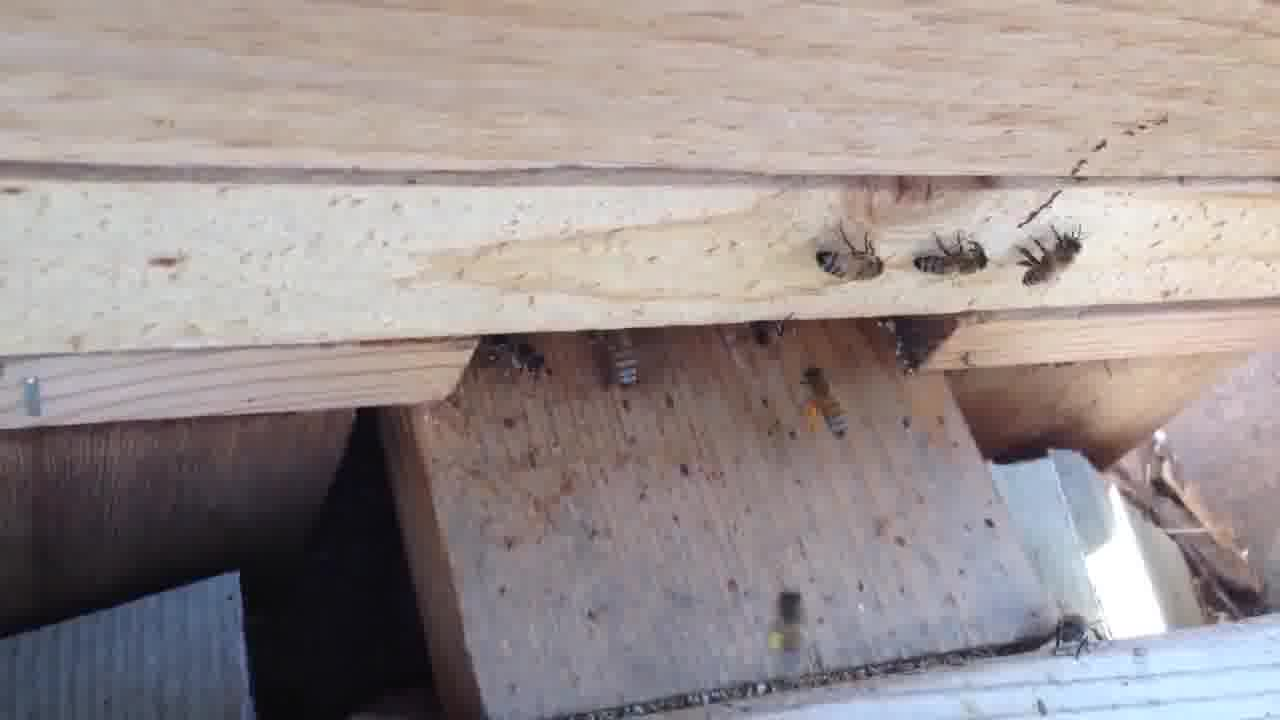pollen: (766, 590, 811, 678), (801, 365, 847, 443)
